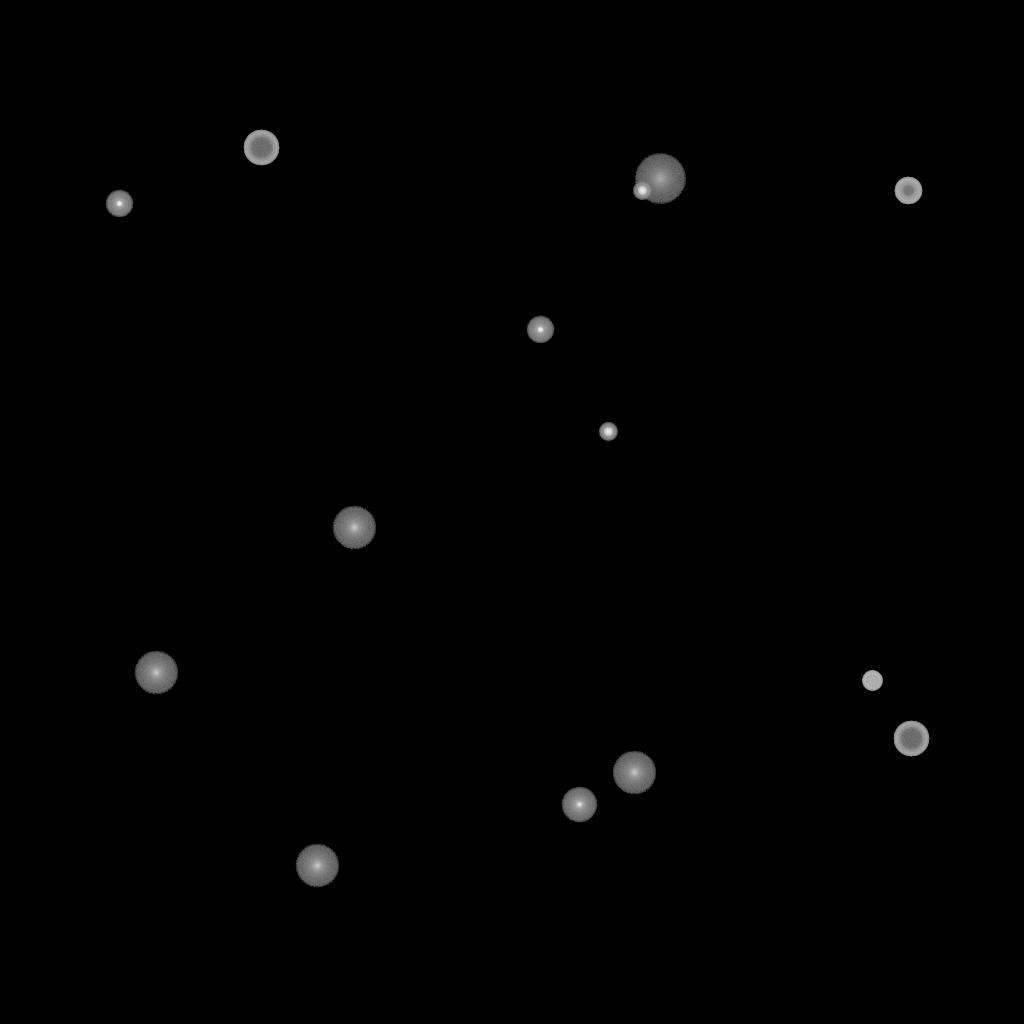depth:-10: (105, 190, 133, 218), (526, 316, 554, 344)
depth:-20: (633, 182, 651, 200), (599, 423, 617, 441)
depth:-40: (862, 671, 882, 691)
depth:-50: (894, 177, 922, 205)
depth:-60: (243, 130, 279, 166), (893, 721, 929, 757)
depth:0: (561, 787, 597, 823)
depth:10: (134, 651, 178, 695), (612, 751, 656, 795), (295, 844, 339, 888), (332, 506, 376, 550)
depth:20: (634, 154, 686, 204)
